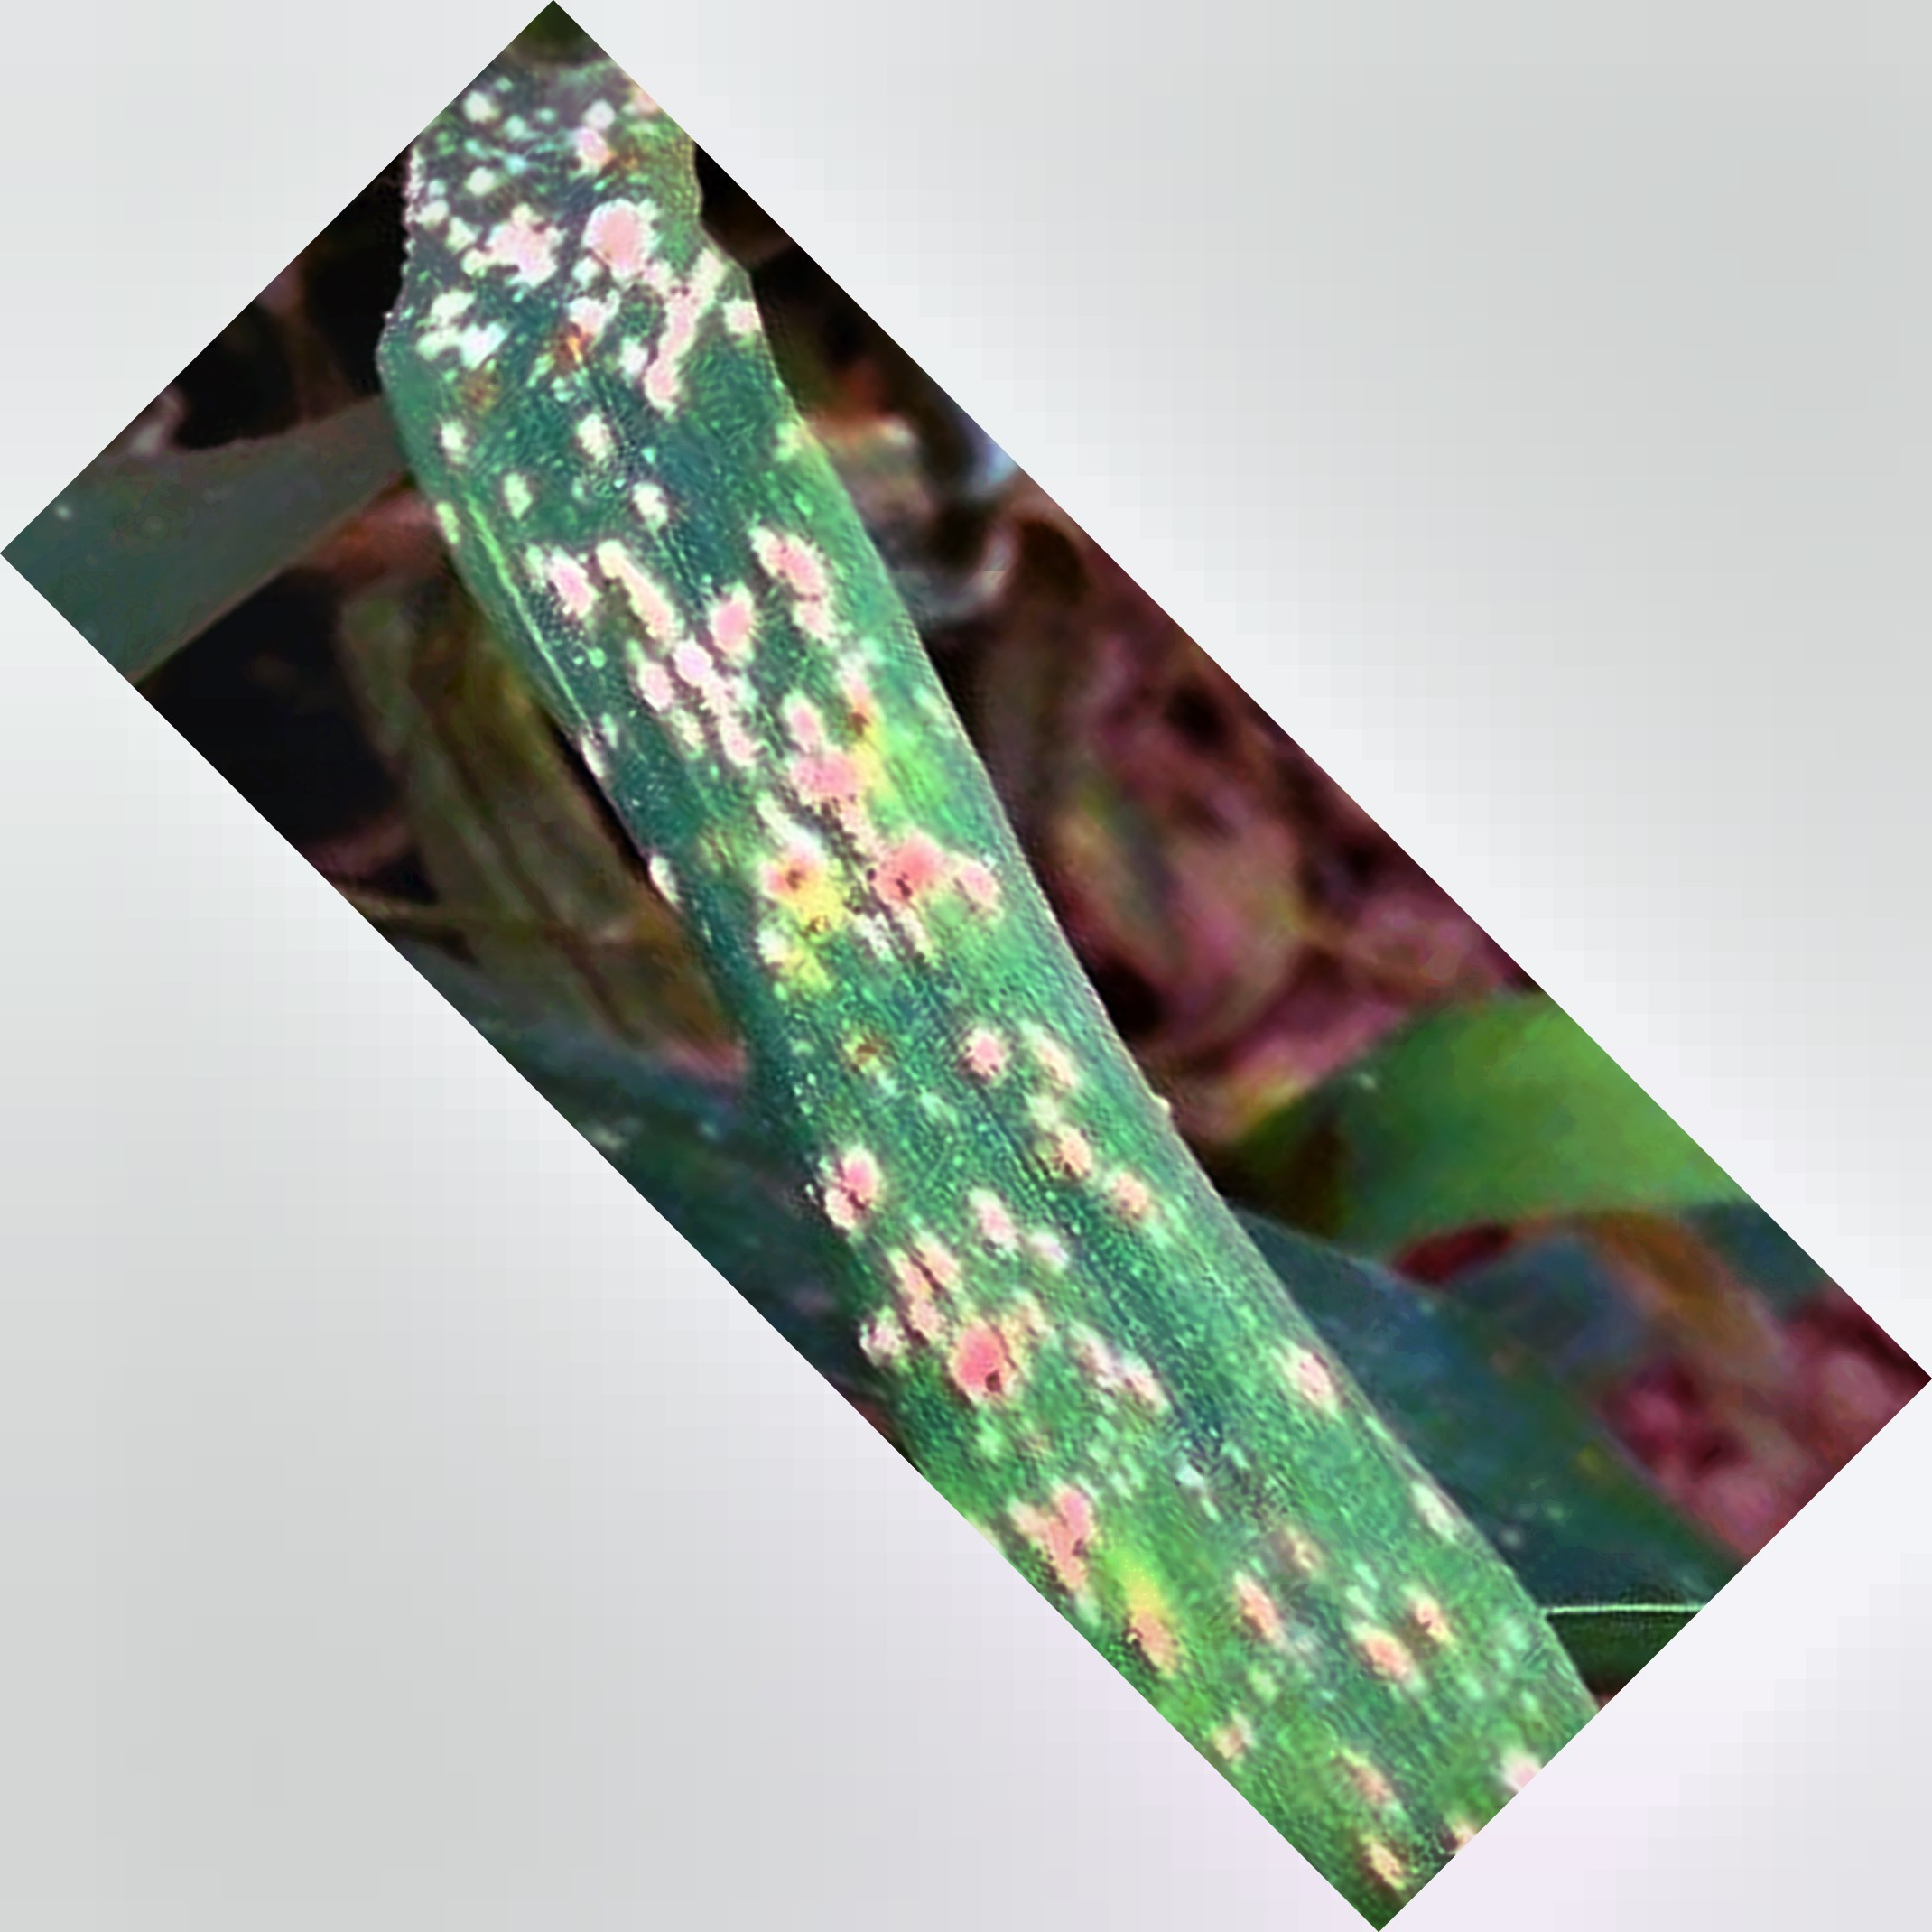Powdery Mildew: (437, 237, 1352, 1637)
